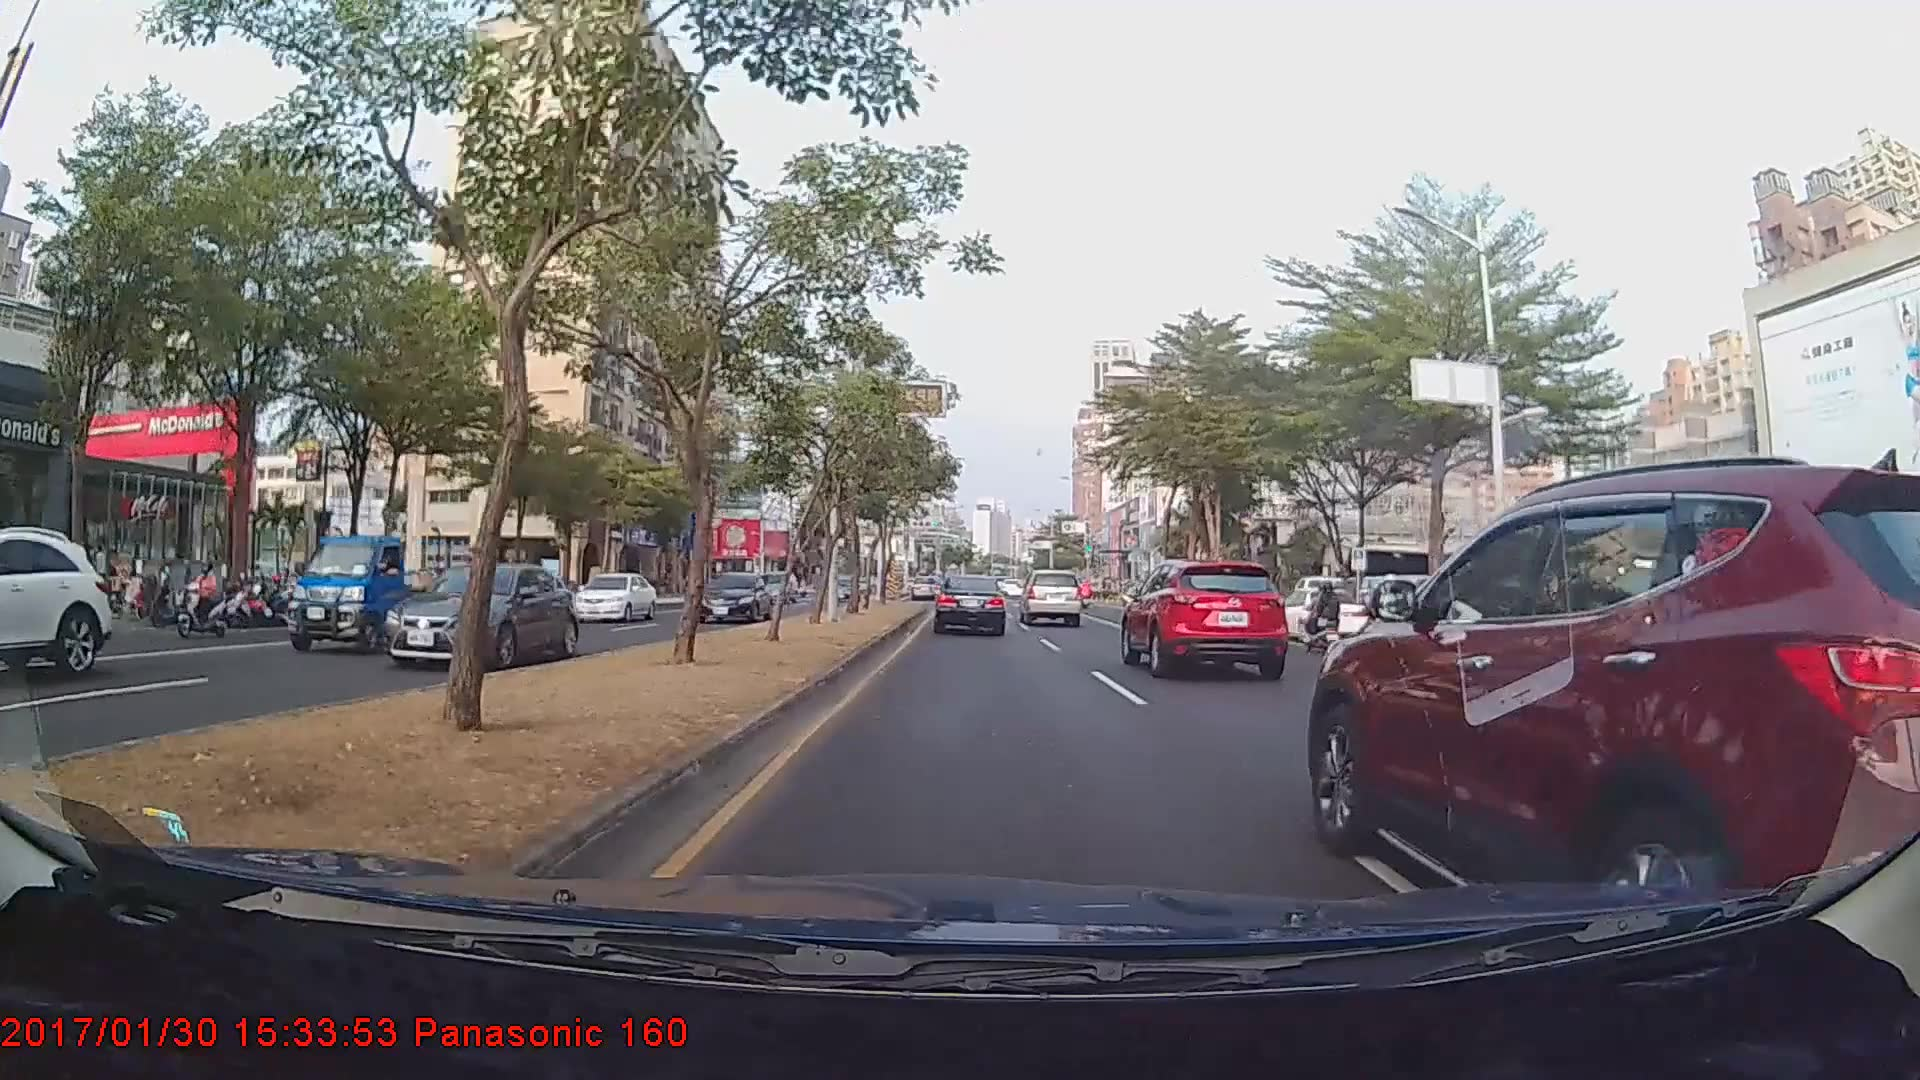rider: (176, 558, 236, 642), (1300, 580, 1350, 666)
vehicle: (1304, 460, 1920, 968), (282, 529, 460, 652), (374, 562, 574, 670), (1123, 554, 1289, 678), (0, 529, 110, 682), (1268, 585, 1365, 643), (932, 572, 1007, 636), (569, 573, 658, 623), (695, 571, 773, 625), (1020, 568, 1082, 626), (908, 575, 940, 601)
